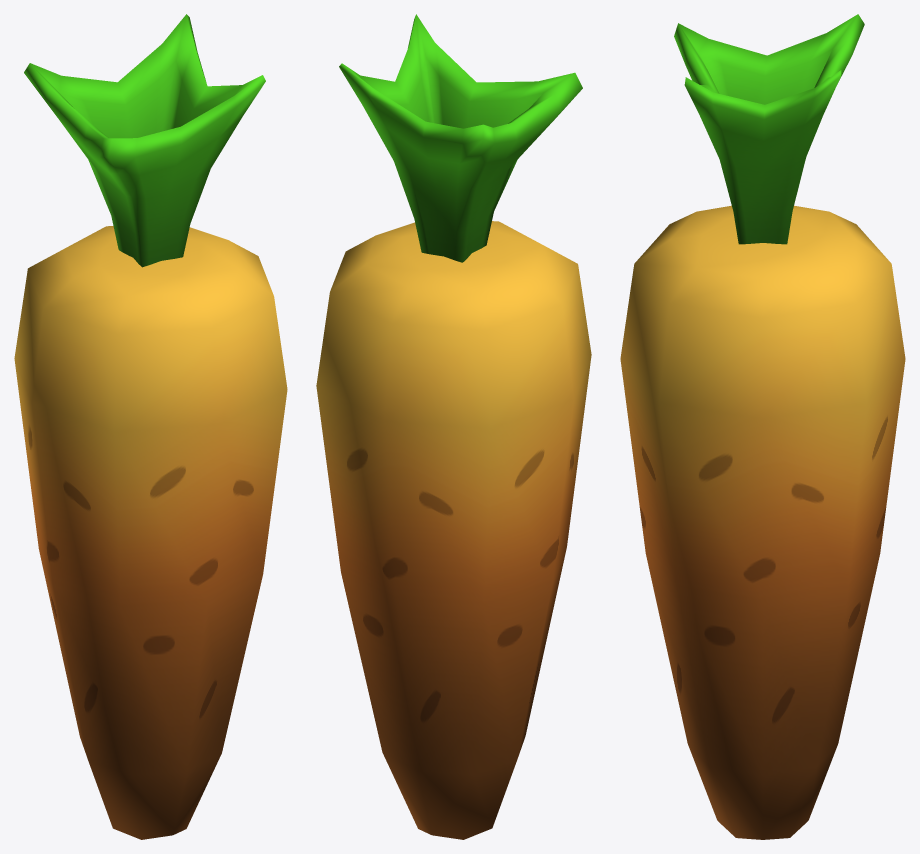
The model's file is Carrot.fbx.
The picture shows the model from 3 angles, left to right: view 1: azimuth 30°, elevation 25°; view 2: azimuth 150°, elevation 25°; view 3: azimuth 270°, elevation 25°; orthographic projection. The views are drawn at different scales.
Visible parts, largest first — view 1: Carrot; view 2: Carrot; view 3: Carrot.
Part boxes in pixels (<box>): Carrot: <box>14,14,287,839</box>; Carrot: <box>316,14,591,839</box>; Carrot: <box>620,14,905,839</box>.
Bounding box in the file's own units: 68.35 × 213 × 68.35.
